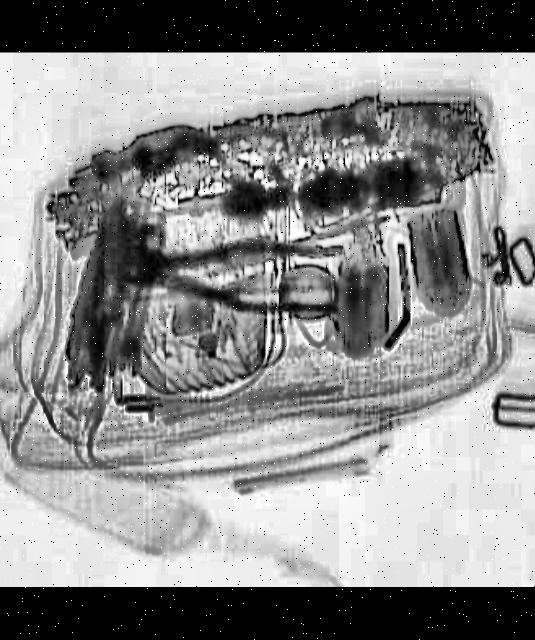Pliers: (104, 231, 342, 320)
